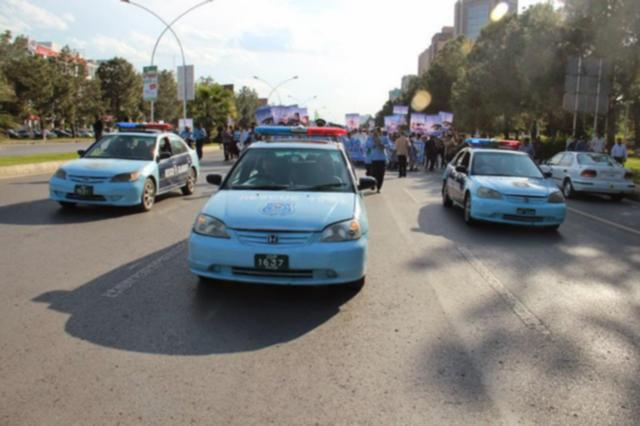police_car: (185, 122, 379, 293), (49, 120, 199, 213), (438, 137, 569, 231)
